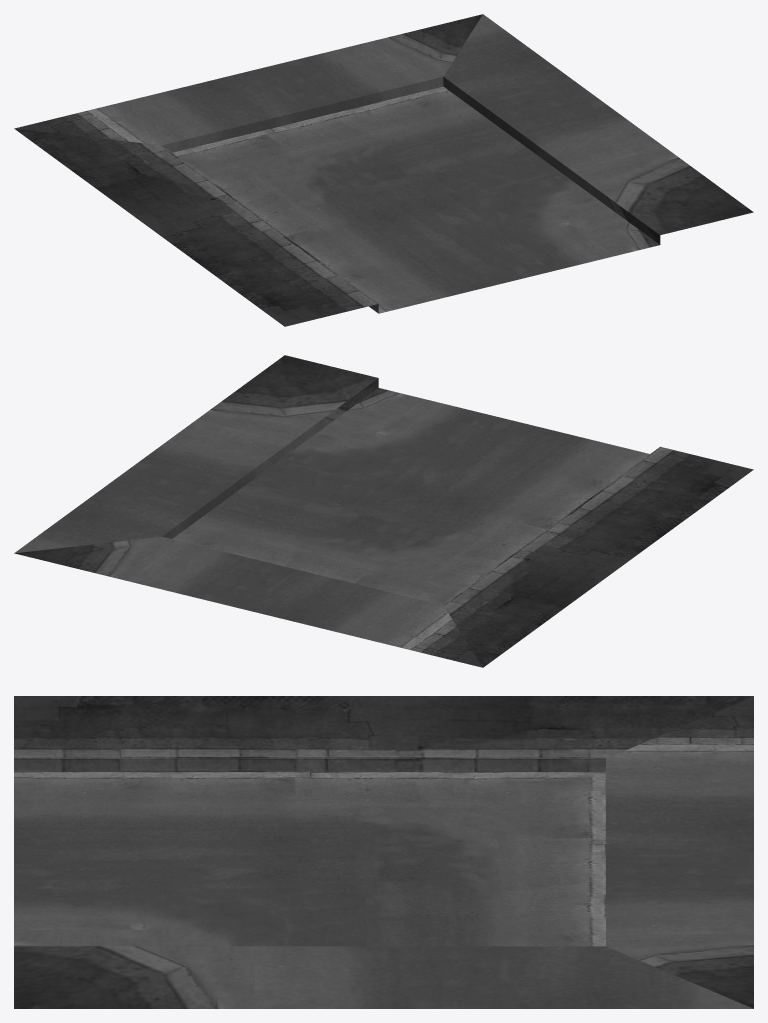
The model's file is road.obj.
3 renders of one model, top to bottom at view 1: azimuth 30°, elevation 25°; view 2: azimuth 150°, elevation 25°; view 3: azimuth 270°, elevation 25°, orthographic. The views are drawn at different scales.
Parts seen in each view (by area): view 1: group; view 2: group; view 3: group.
Part boxes in pixels (left/top/right/bottom): group: left=14, top=14, right=753, bottom=326; group: left=14, top=355, right=753, bottom=667; group: left=14, top=696, right=753, bottom=1008.
Bounding box in the file's own units: 10 × 0.2 × 10.
